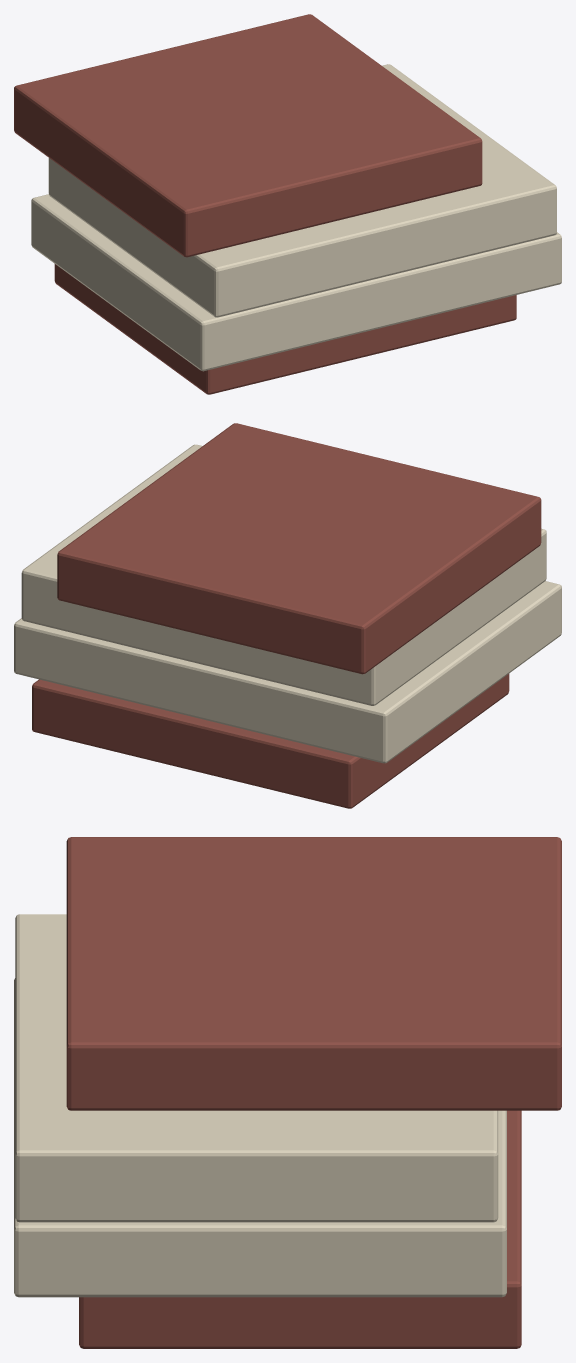
File: living_books.glb
The picture shows the model from 3 angles, top to bottom: view 1: azimuth 30°, elevation 25°; view 2: azimuth 150°, elevation 25°; view 3: azimuth 270°, elevation 25°; orthographic projection. The views are drawn at different scales.
Parts seen in each view (by area): view 1: living_books; view 2: living_books; view 3: living_books.
Boxes of the visible parts, x1,y1,x2,y2 form: living_books: (14, 14, 561, 394); living_books: (14, 423, 561, 808); living_books: (14, 837, 561, 1348).
Bounding box in the file's own units: 0.2606 × 0.1341 × 0.2385.
